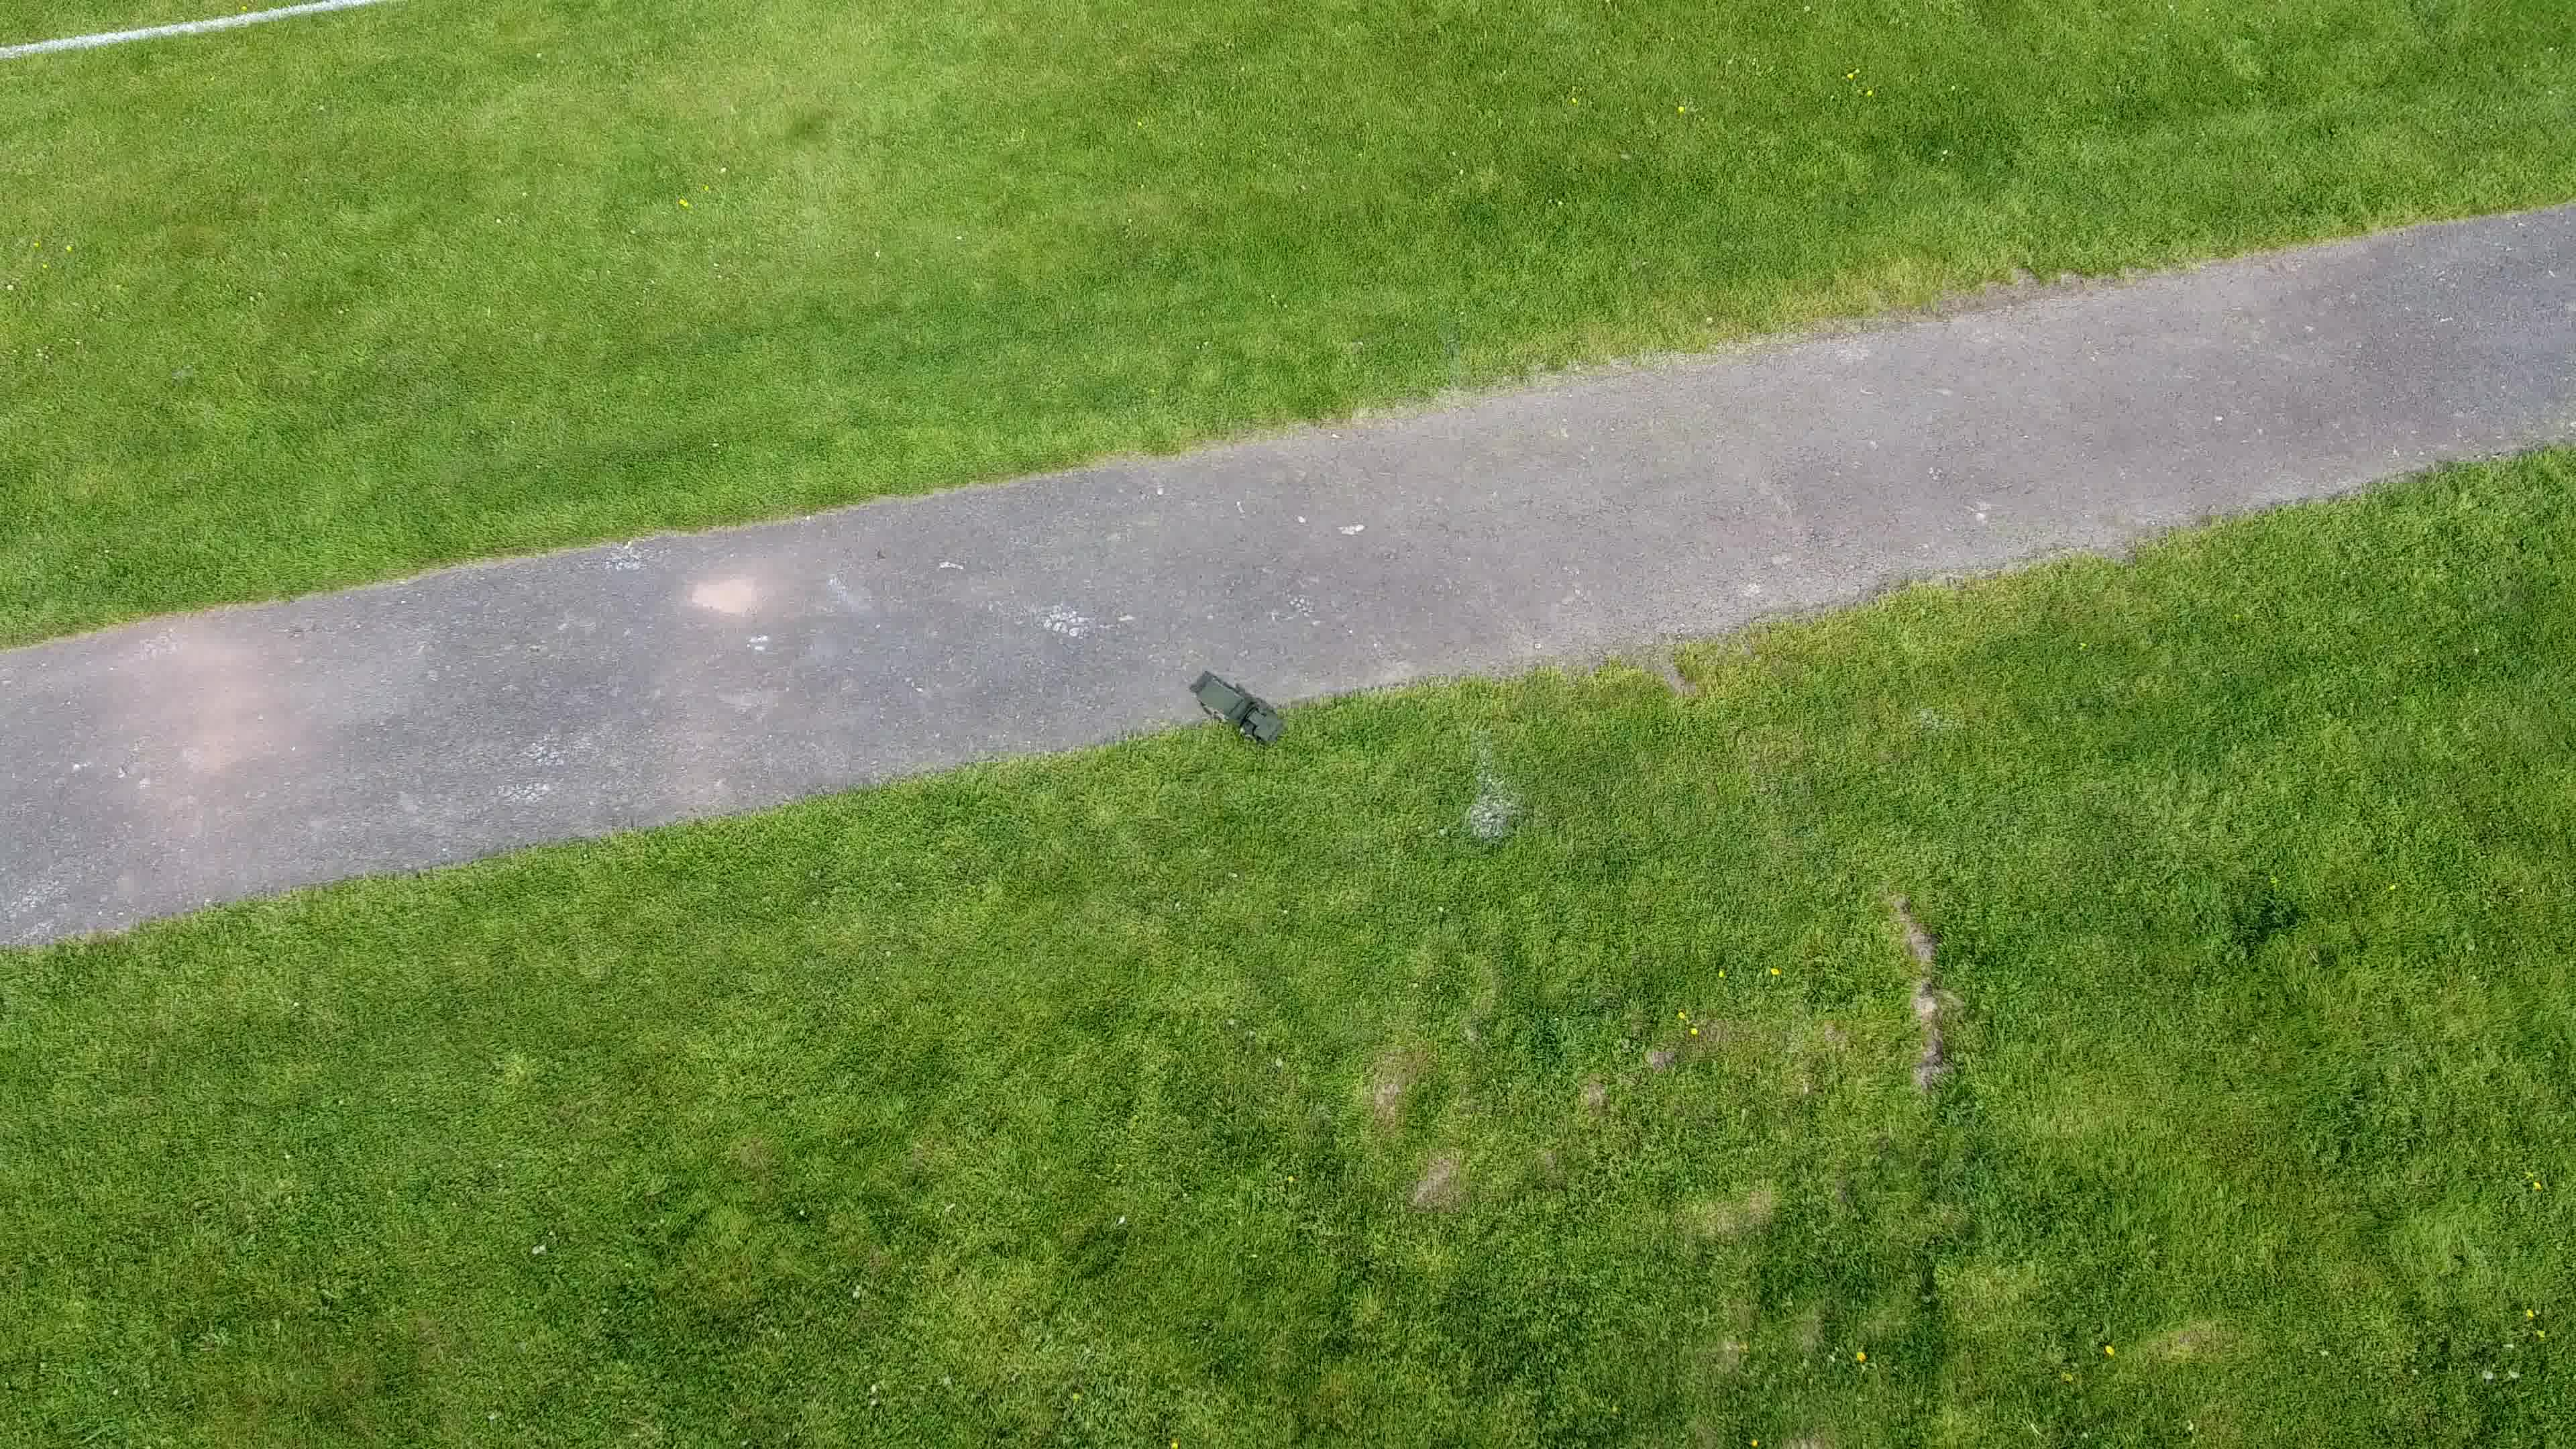transporter9: (1192, 672, 1292, 747)
